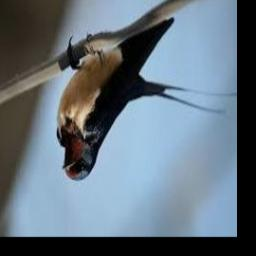Swallow: (57, 17, 237, 182)
